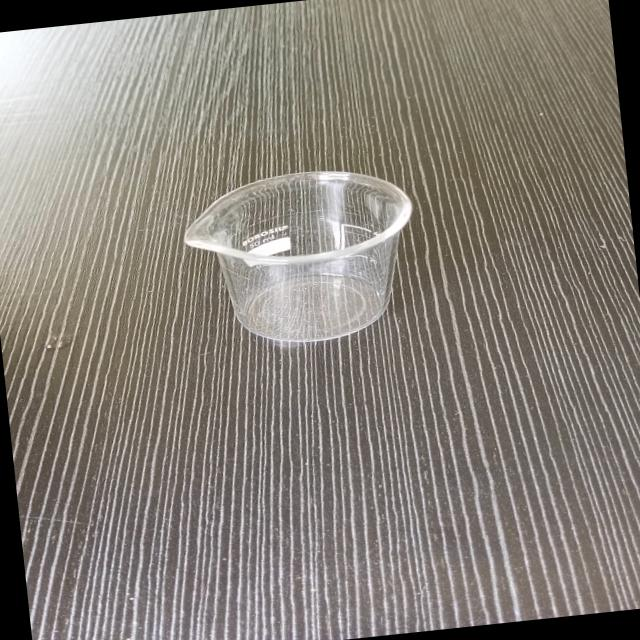beaker: (166, 156, 437, 360)
